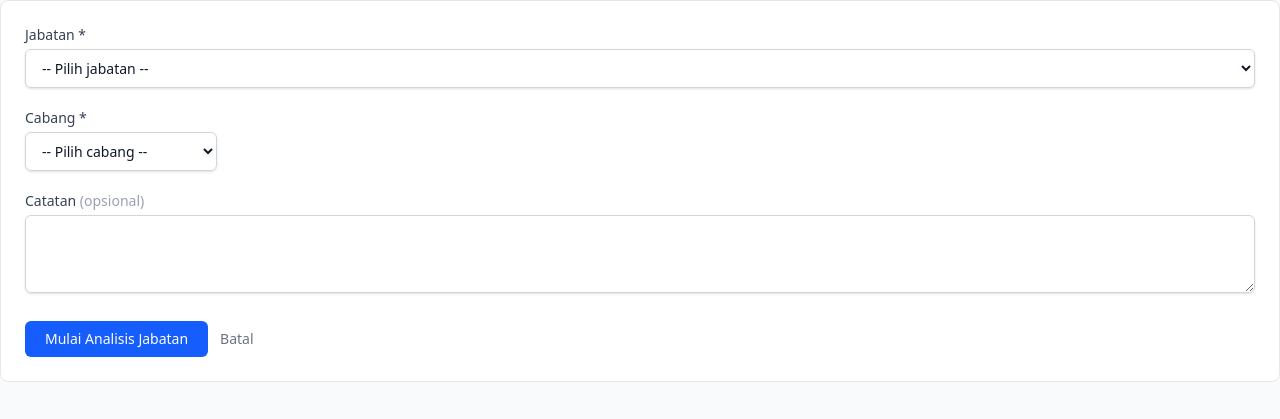
Scenario: TiSesiForm — dropdown Cabang › menolak submit bila Cabang belum dipilih
Select "Guru Kelas SD" in the dropdown labelled "Jabatan *" at x=640, y=68, box [25, 49, 1255, 88]
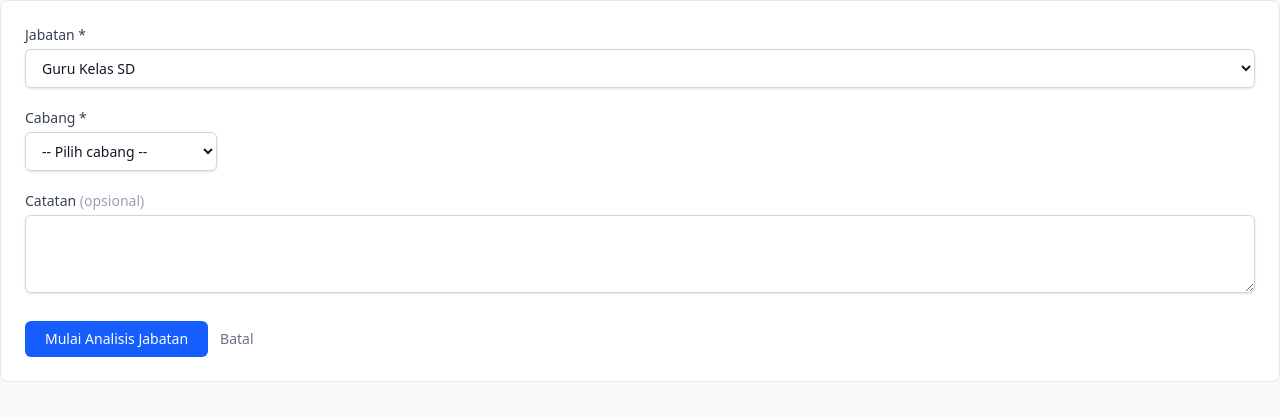
Click the button "Mulai Analisis Jabatan" at x=117, y=339, box [25, 321, 208, 357]
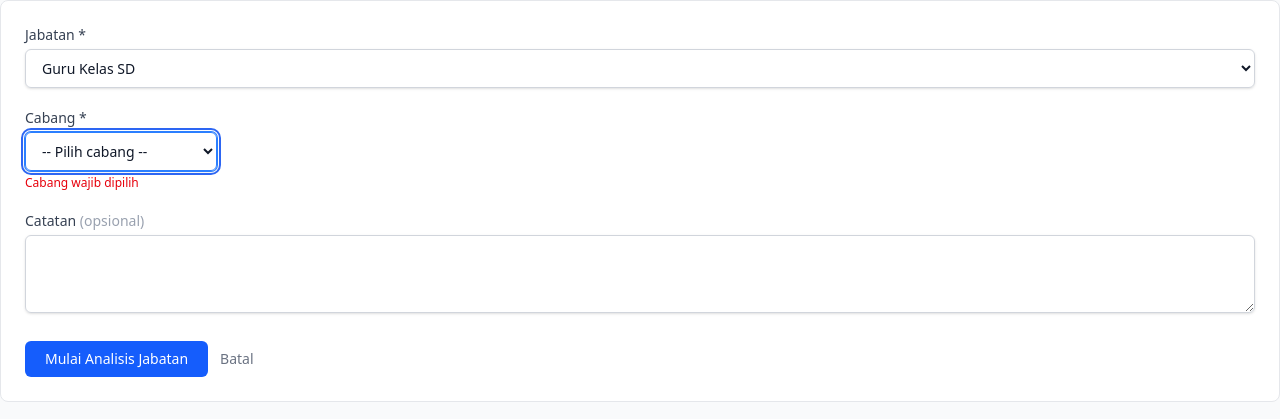
Expected: the text "Cabang wajib dipilih" is shown, [25, 174, 139, 191]
